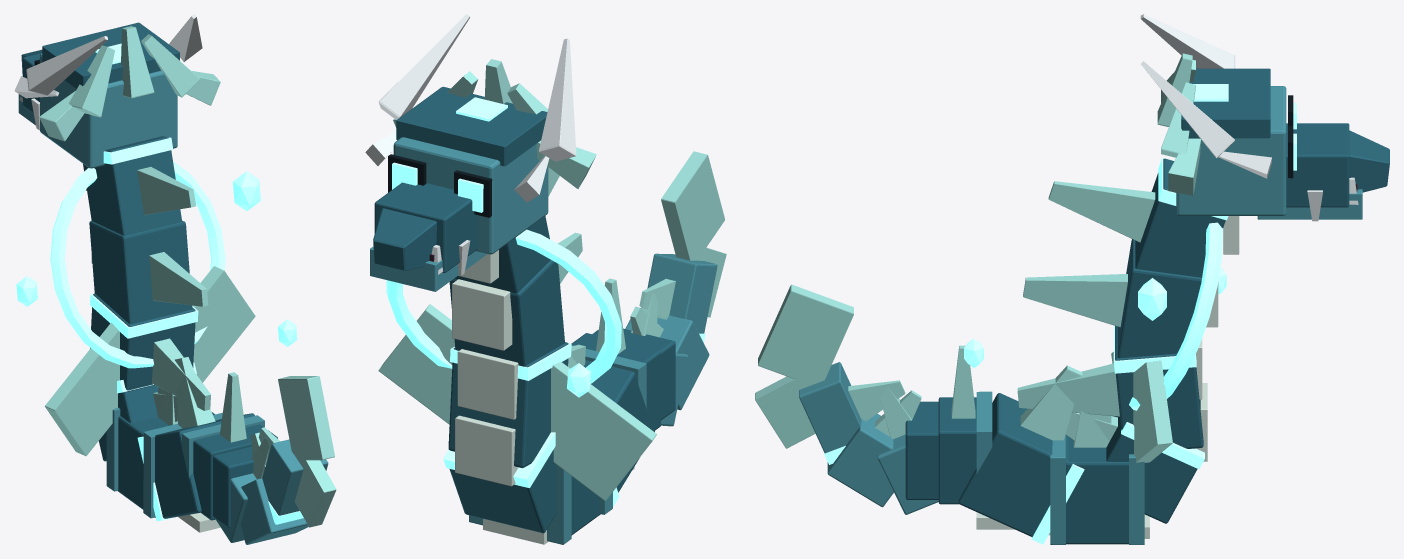
Rendered from leviathan.glb.
3 views of the same model, side by side, from view 1: azimuth 30°, elevation 25°; view 2: azimuth 150°, elevation 25°; view 3: azimuth 270°, elevation 25° (orthographic). The views are drawn at different scales.
Visible parts, largest first — view 1: body, head, tail, fin.R, fin.L, ear.R, ear.L; view 2: body, head, tail, fin.R, fin.L, ear.R, ear.L; view 3: body, head, tail, fin.L, ear.L, ear.R.
Boxes of the visible parts, x1,y1,x2,y2 form: body: (16, 136, 297, 532); head: (18, 22, 220, 168); tail: (213, 376, 336, 544); fin.R: (45, 322, 119, 456); fin.L: (193, 266, 255, 382); ear.R: (14, 36, 107, 98); ear.L: (169, 14, 202, 61); body: (386, 167, 660, 544); head: (370, 59, 596, 291); tail: (592, 151, 726, 426); fin.R: (551, 362, 656, 500); fin.L: (378, 304, 454, 424); ear.R: (514, 38, 576, 202); ear.L: (365, 14, 469, 165); body: (938, 157, 1239, 544); head: (1157, 53, 1389, 221); tail: (755, 284, 938, 514); fin.L: (1133, 360, 1172, 462); ear.L: (1141, 61, 1271, 178); ear.R: (1140, 14, 1271, 85).
Size of the model in its own units: 0.5227 by 1 by 1.18.
